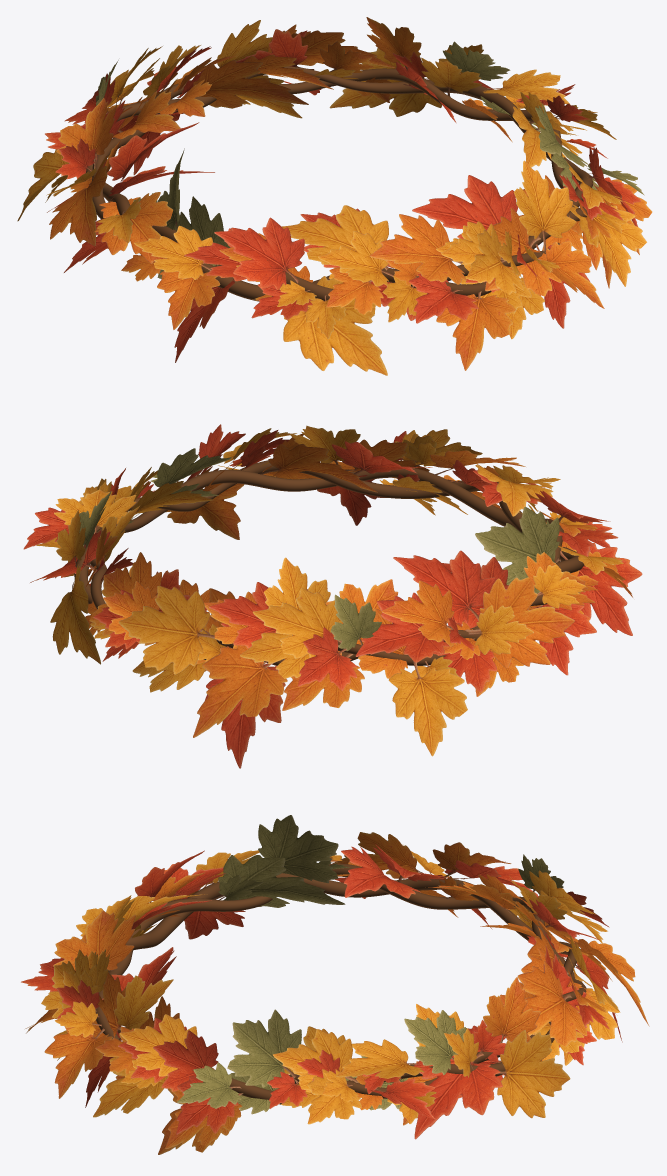
File: couronne-automne.glb
The picture shows the model from 3 angles, top to bottom: view 1: azimuth 30°, elevation 25°; view 2: azimuth 150°, elevation 25°; view 3: azimuth 270°, elevation 25°; orthographic projection. The views are drawn at different scales.
Parts seen in each view (by area): view 1: feuilles, branches; view 2: feuilles, branches; view 3: feuilles, branches.
Boxes of the visible parts, x1,y1,x2,y2 form: feuilles: (17, 17, 652, 375); branches: (86, 66, 593, 301); feuilles: (23, 424, 642, 768); branches: (74, 460, 583, 665); feuilles: (21, 815, 649, 1154); branches: (95, 863, 586, 1104).
Size of the model in its own units: 2.09 by 0.7011 by 2.16.
2 materials, 1 textured.
